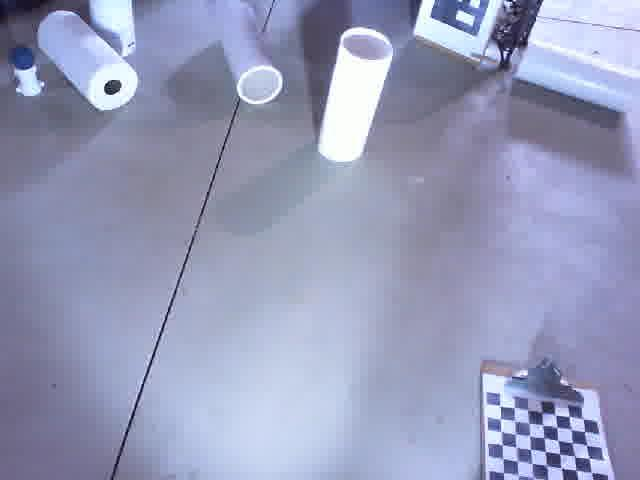coral: (316, 25, 395, 168), (509, 35, 640, 113), (211, 6, 285, 105)
